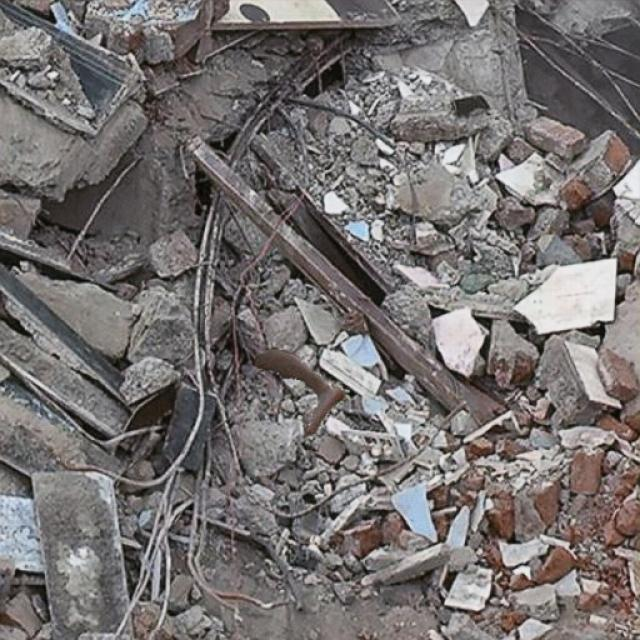Person in Rubble: (255, 348, 345, 433)
